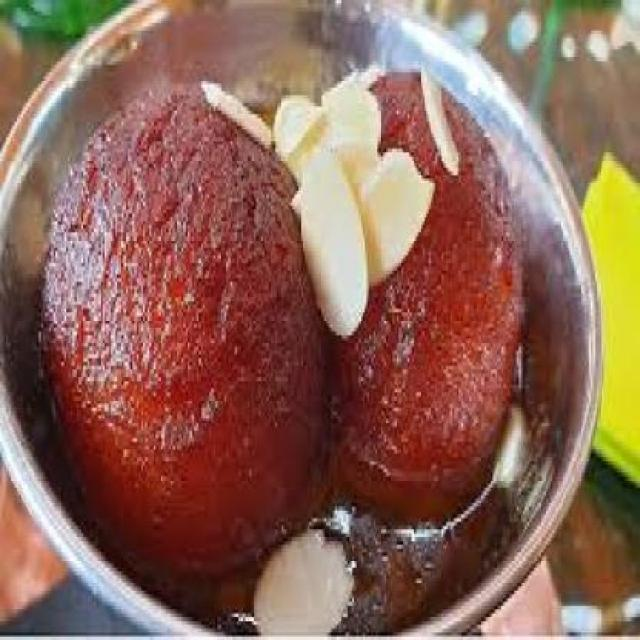gulab_jamun: (40, 85, 334, 568), (336, 69, 526, 528)
